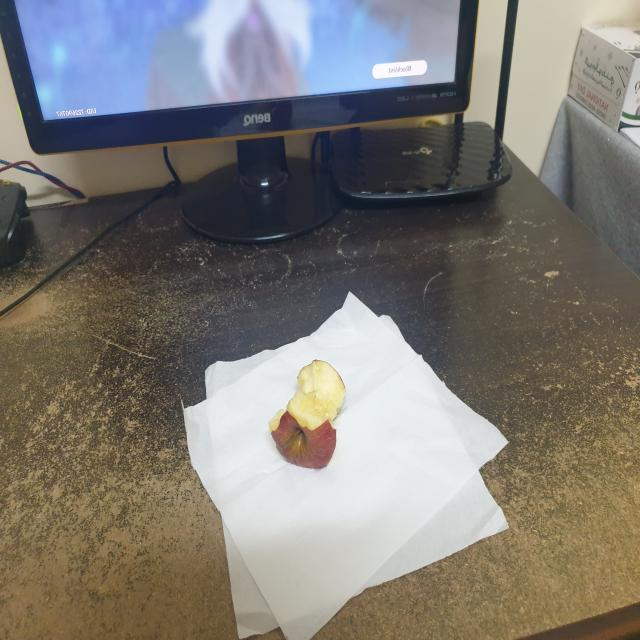apple: (260, 354, 354, 472)
